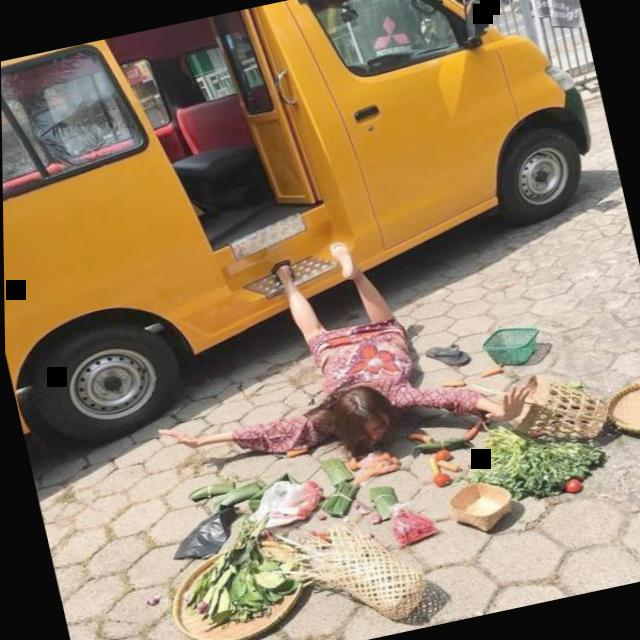Fall-Detected: (129, 193, 536, 507)
